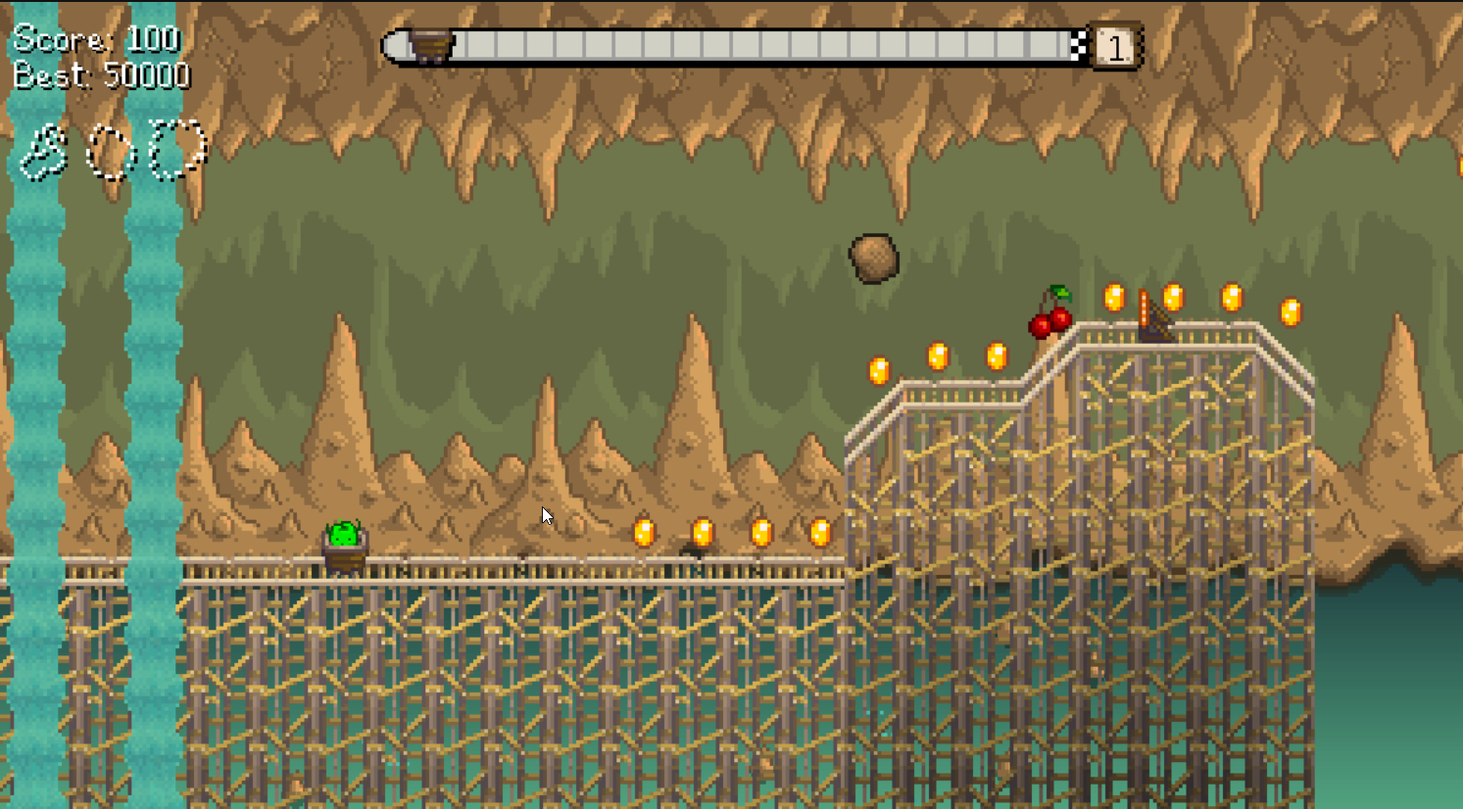barricade: (1139, 289, 1174, 342)
boulder: (849, 234, 898, 283)
cherry: (1025, 279, 1079, 342)
coins: (751, 517, 774, 547), (808, 517, 830, 547), (1221, 283, 1244, 311), (1163, 283, 1185, 312), (1280, 298, 1302, 327), (634, 517, 655, 547), (928, 342, 950, 370), (986, 342, 1008, 370), (692, 518, 713, 547), (868, 357, 889, 385), (1104, 283, 1125, 311)
minecart: (321, 521, 368, 573)
tracks: (845, 323, 1148, 474), (183, 556, 845, 586), (1177, 322, 1313, 383), (68, 557, 124, 585)
